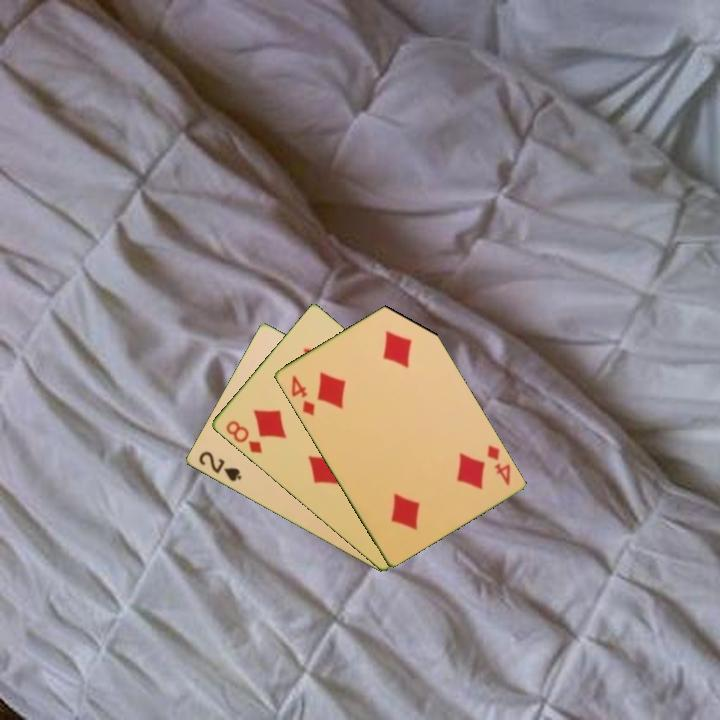2s: (195, 448, 244, 485)
4d: (287, 372, 317, 419), (483, 441, 513, 488)
8d: (222, 417, 265, 456)
